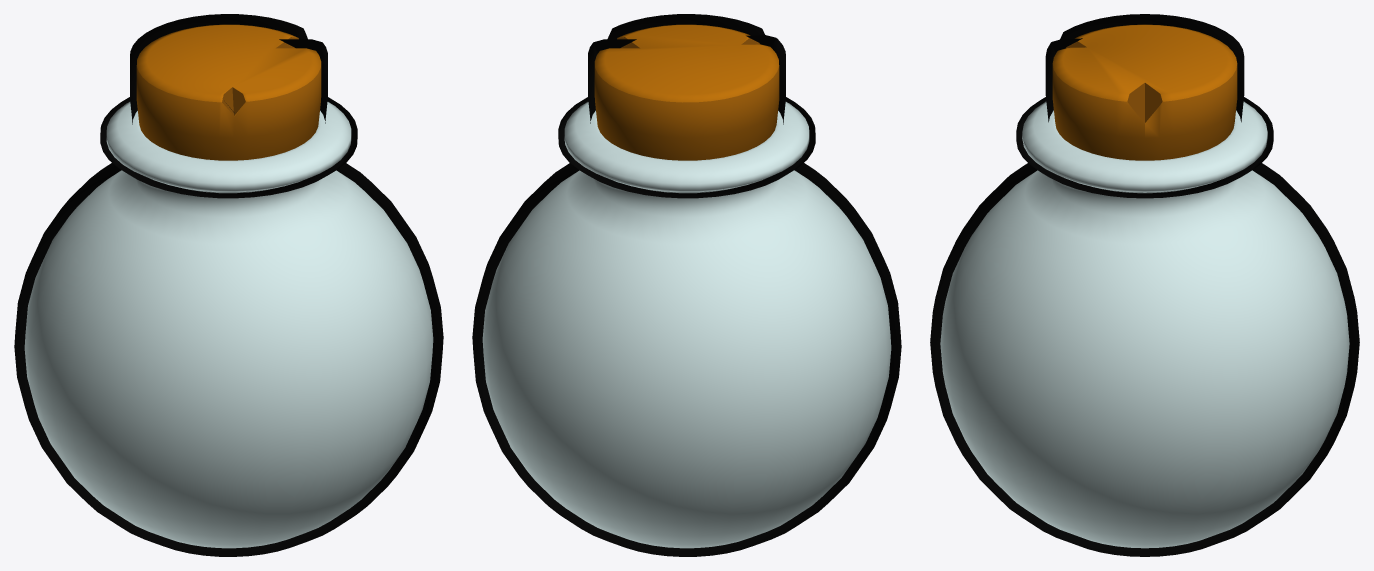
File: Potion.fbx
The picture shows the model from 3 angles, left to right: view 1: azimuth 30°, elevation 25°; view 2: azimuth 150°, elevation 25°; view 3: azimuth 270°, elevation 25°; orthographic projection.
Parts seen in each view (by area): view 1: Sphere, Cylinder, Sphere.002; view 2: Sphere, Cylinder, Sphere.002; view 3: Sphere, Cylinder, Sphere.002.
Boxes of the visible parts, x1,y1,x2,y2 form: Sphere: [24, 102, 433, 548]; Cylinder: [136, 24, 321, 160]; Sphere.002: [14, 14, 443, 556]; Sphere: [482, 102, 891, 548]; Cylinder: [594, 24, 779, 160]; Sphere.002: [472, 14, 901, 556]; Sphere: [940, 101, 1349, 548]; Cylinder: [1052, 24, 1237, 160]; Sphere.002: [930, 14, 1359, 556].
Bounding box in the file's own units: 210 × 262 × 210.
